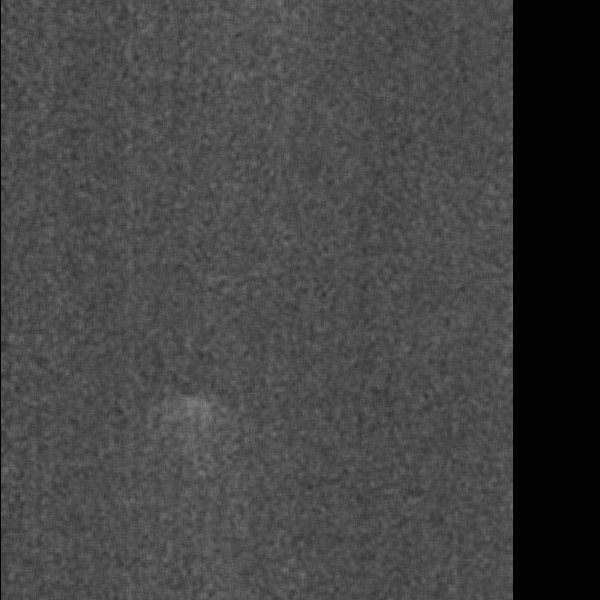spark: (162, 389, 224, 441)
